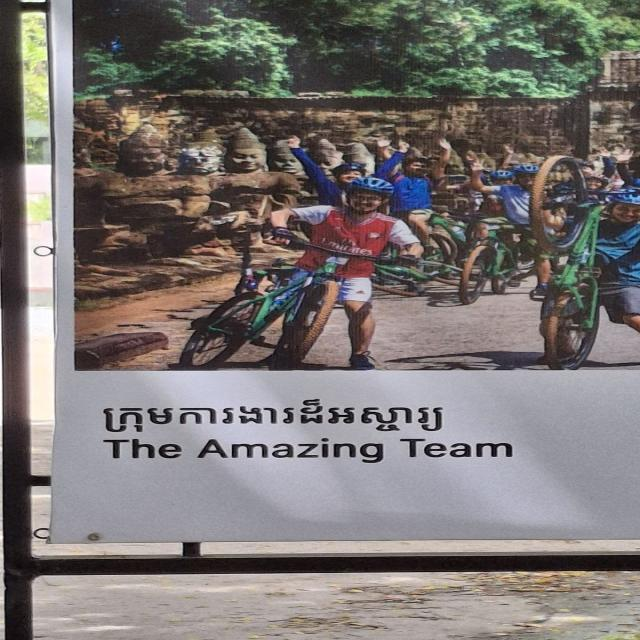Yolov11kh: (84, 394, 464, 436)
